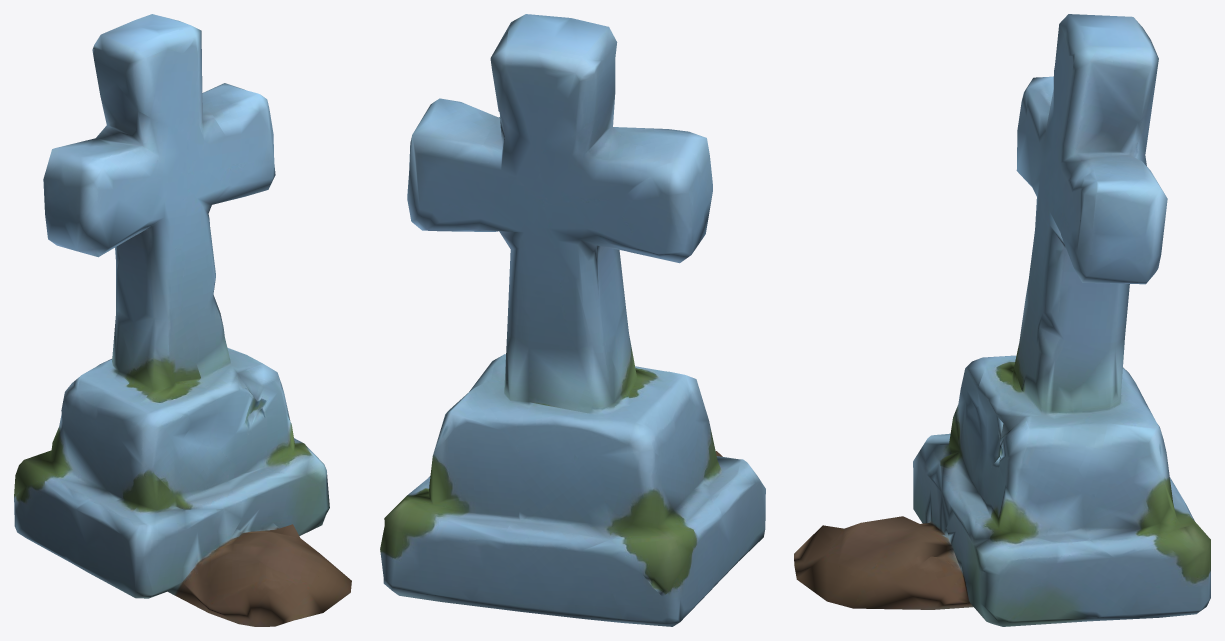
Rendered from gy_cross-Cu6NfPN4.glb.
3 renders of one model, left to right at view 1: azimuth 30°, elevation 25°; view 2: azimuth 150°, elevation 25°; view 3: azimuth 270°, elevation 25°, orthographic. The views are drawn at different scales.
Parts seen in each view (by area): view 1: tripo_node_f2da1f3d-cb68-4e90-8ec2-b886fcb7cc8e; view 2: tripo_node_f2da1f3d-cb68-4e90-8ec2-b886fcb7cc8e; view 3: tripo_node_f2da1f3d-cb68-4e90-8ec2-b886fcb7cc8e.
Boxes of the visible parts, x1,y1,x2,y2 form: tripo_node_f2da1f3d-cb68-4e90-8ec2-b886fcb7cc8e: [14, 14, 351, 626]; tripo_node_f2da1f3d-cb68-4e90-8ec2-b886fcb7cc8e: [380, 14, 765, 626]; tripo_node_f2da1f3d-cb68-4e90-8ec2-b886fcb7cc8e: [794, 14, 1210, 626].
Size of the model in its own units: 0.5347 by 1 by 0.703.
Materials: 1 (1 with a texture image).
